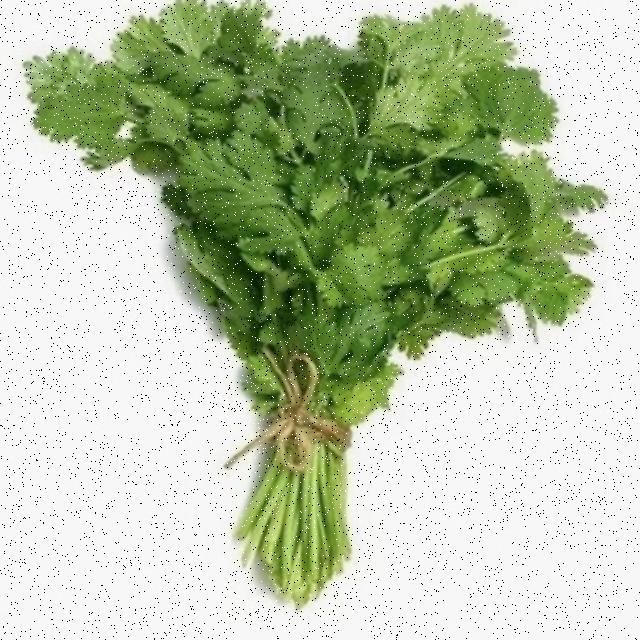Coriander: (29, 24, 586, 596)
